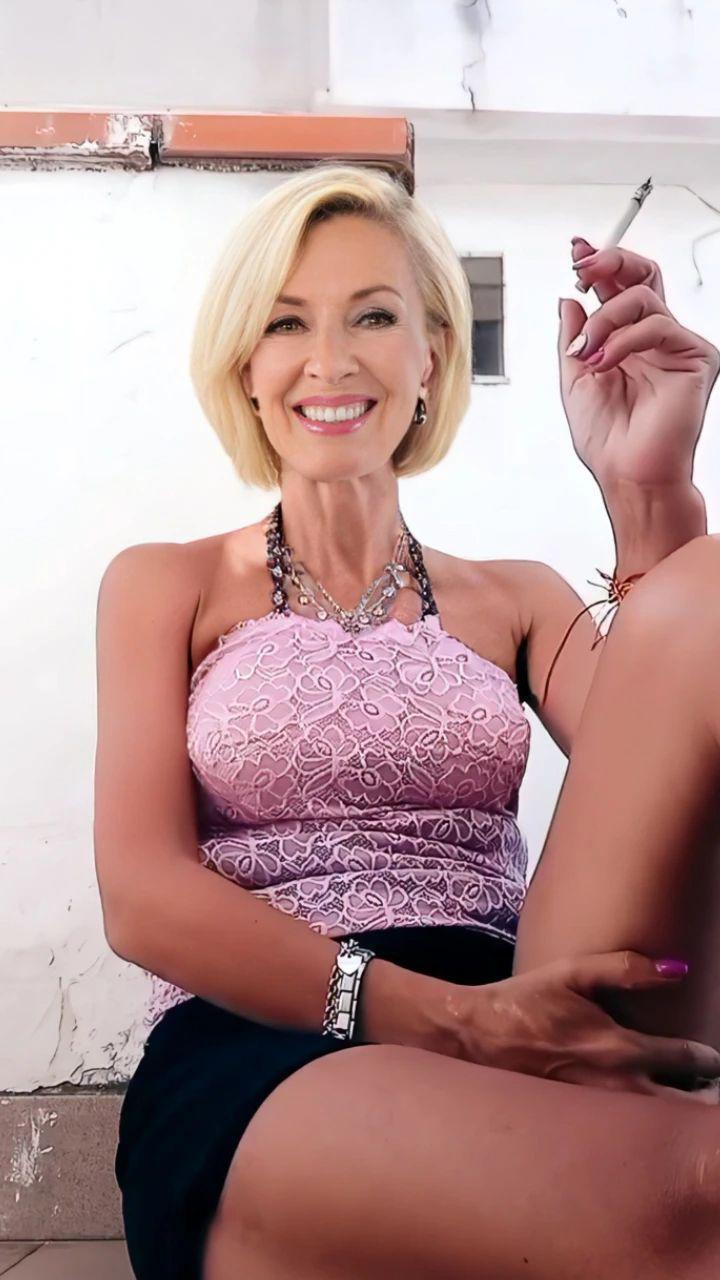cigarette: (575, 175, 654, 294)
